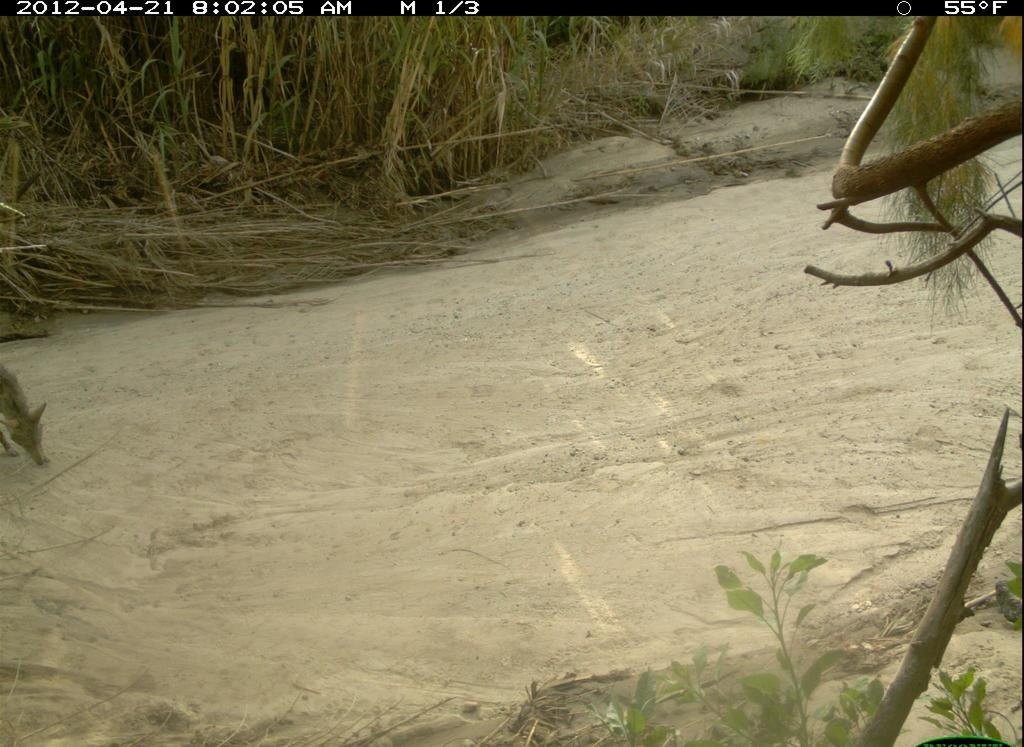coyote: (5, 361, 59, 479)
